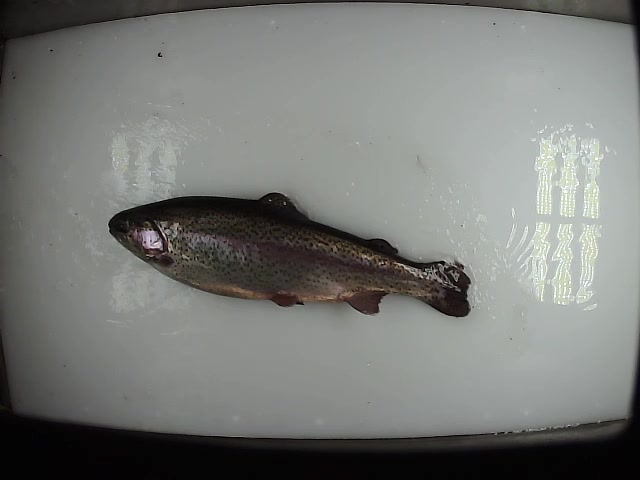fish: (106, 191, 472, 323)
